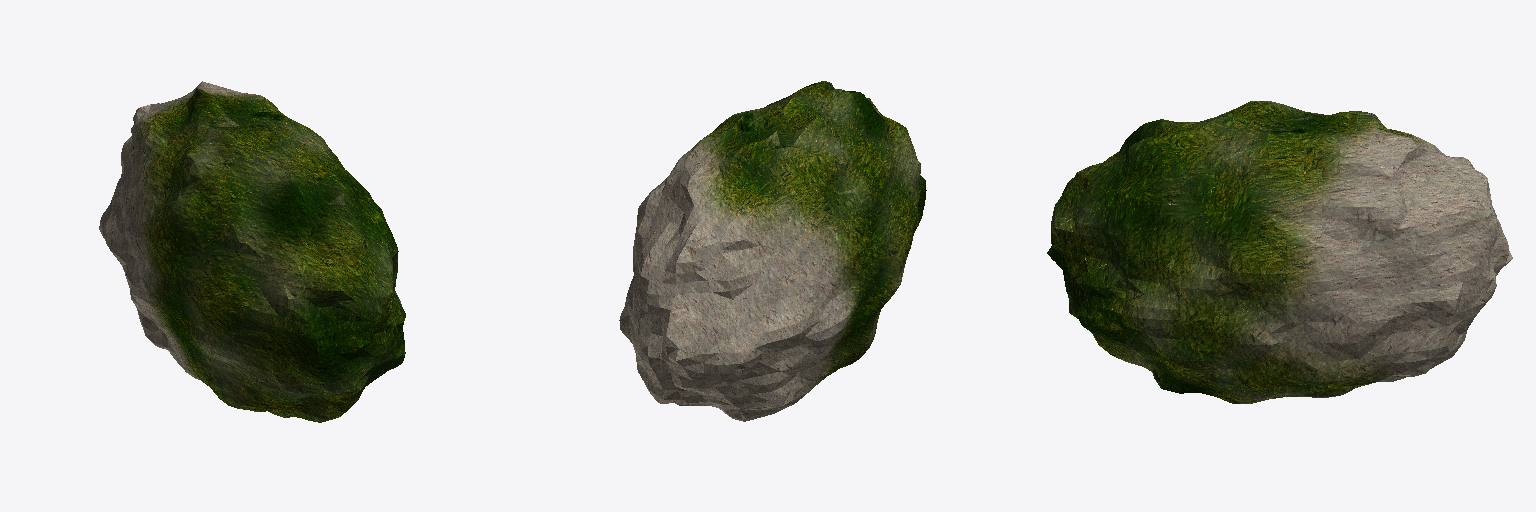
The picture shows the model from 3 angles: view 1: azimuth 30°, elevation 25°; view 2: azimuth 150°, elevation 25°; view 3: azimuth 270°, elevation 25°; orthographic projection.
Visible parts, largest first — view 1: rock2; view 2: rock2; view 3: rock2.
Part boxes in pixels (x1,y1,x2,y2): rock2: (99,81,405,422); rock2: (619,81,926,421); rock2: (1047,101,1512,403).
Size of the model in its own units: 1.95 by 2.7 by 4.07.
Materials: 1 (1 with a texture image).